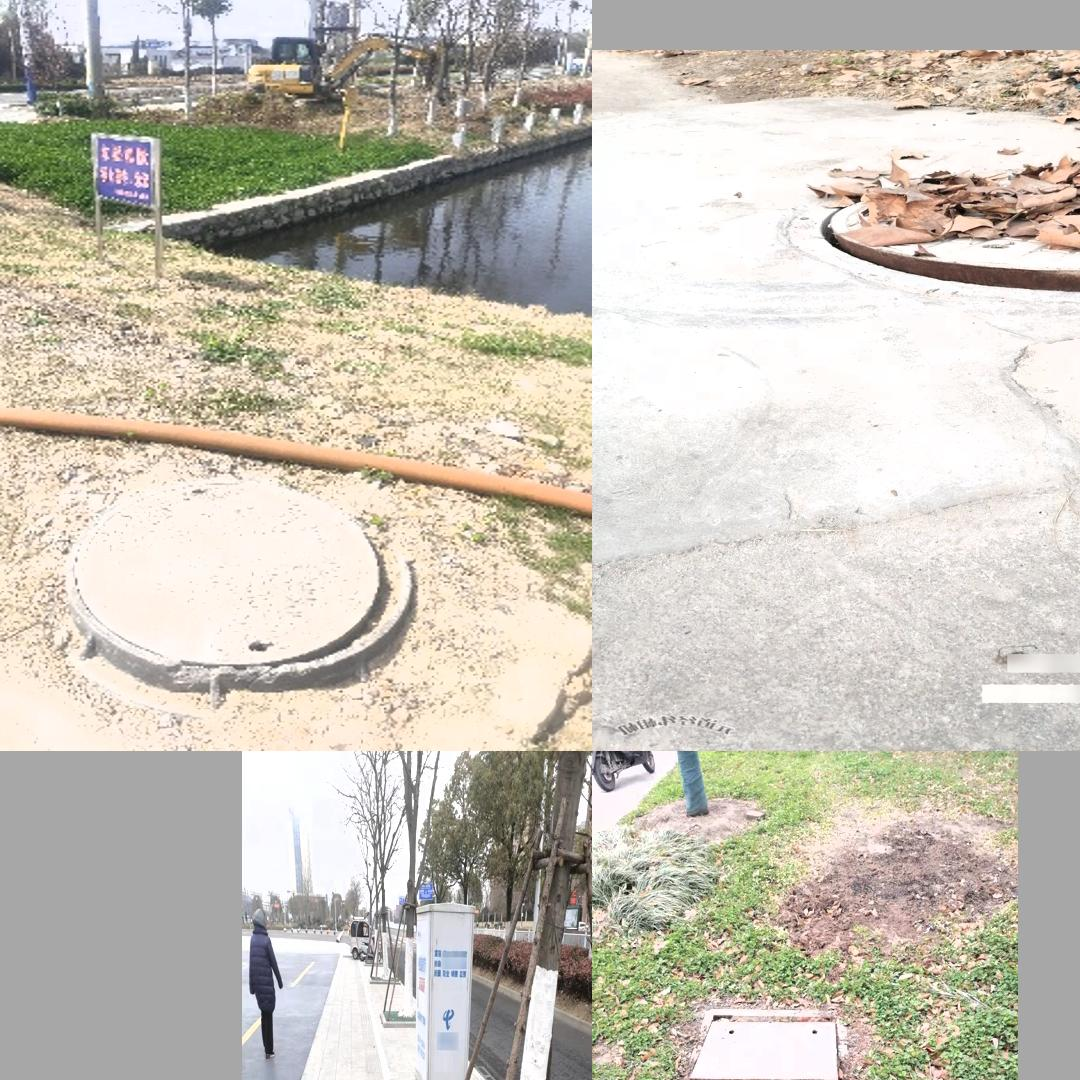uncovered: (61, 473, 418, 694), (785, 179, 1080, 300), (682, 994, 863, 1080)
